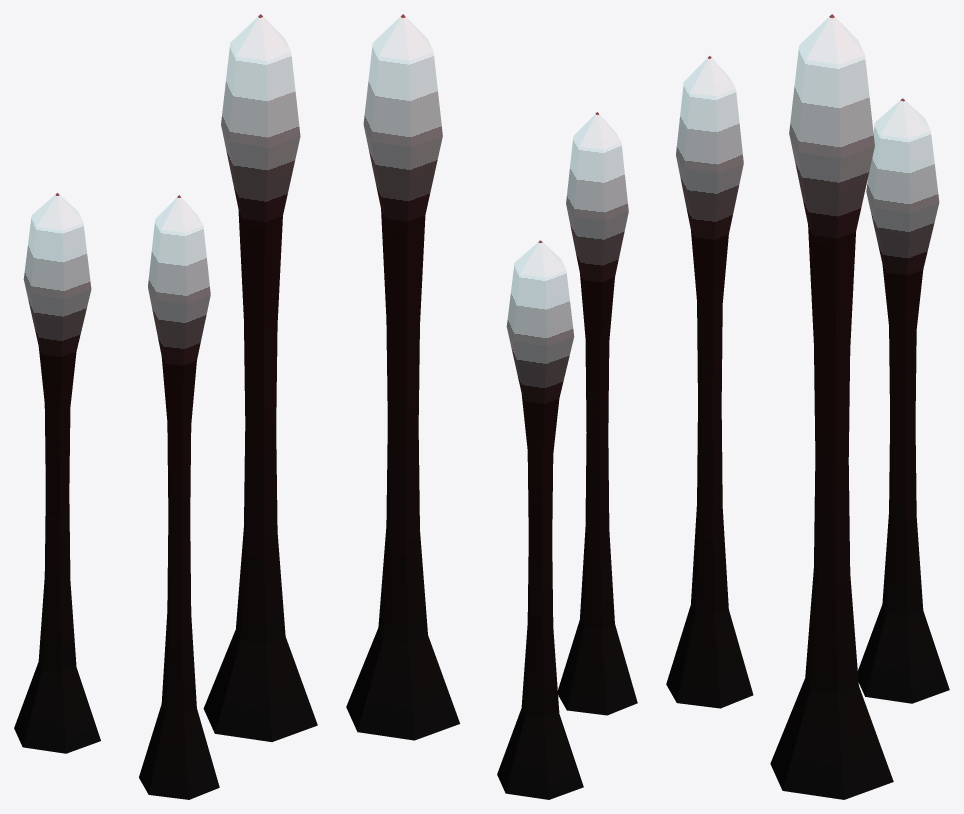
File: entity102534.glb
3 renders of one model, left to right at view 1: azimuth 30°, elevation 25°; view 2: azimuth 150°, elevation 25°; view 3: azimuth 270°, elevation 25°, orthographic. The views are drawn at different scales.
Parts seen in each view (by area): view 1: node_SM_Env_Plant_Kelp_06 (5); view 2: node_SM_Env_Plant_Kelp_06 (5); view 3: node_SM_Env_Plant_Kelp_06 (5).
Boxes of the visible parts, box(x1,y1,x2,y2) form: node_SM_Env_Plant_Kelp_06 (5): box(14, 14, 317, 799); node_SM_Env_Plant_Kelp_06 (5): box(346, 14, 637, 799); node_SM_Env_Plant_Kelp_06 (5): box(666, 14, 949, 799).
Size of the model in its own units: 1.09 by 2.8 by 0.9502.
1 material, 1 textured.
